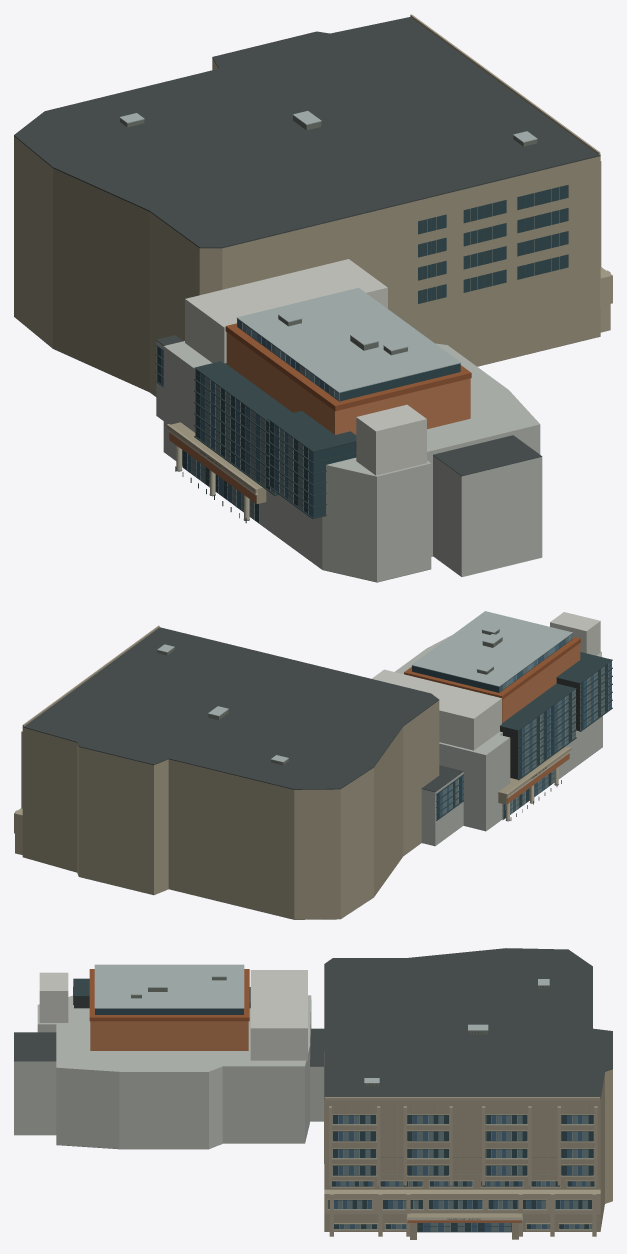
The model's file is courthouse.glb.
3 renders of one model, top to bottom at view 1: azimuth 30°, elevation 25°; view 2: azimuth 150°, elevation 25°; view 3: azimuth 270°, elevation 25°, orthographic. The views are drawn at different scales.
Visible parts, largest first — view 1: Montgomery County Circuit Court; view 2: Montgomery County Circuit Court; view 3: Montgomery County Circuit Court.
Part boxes in pixels (x1,y1,x2,y2): Montgomery County Circuit Court: (14,14,612,582); Montgomery County Circuit Court: (14,611,612,919); Montgomery County Circuit Court: (14,948,612,1239).
Size of the model in its own units: 91.68 by 34.06 by 135.
